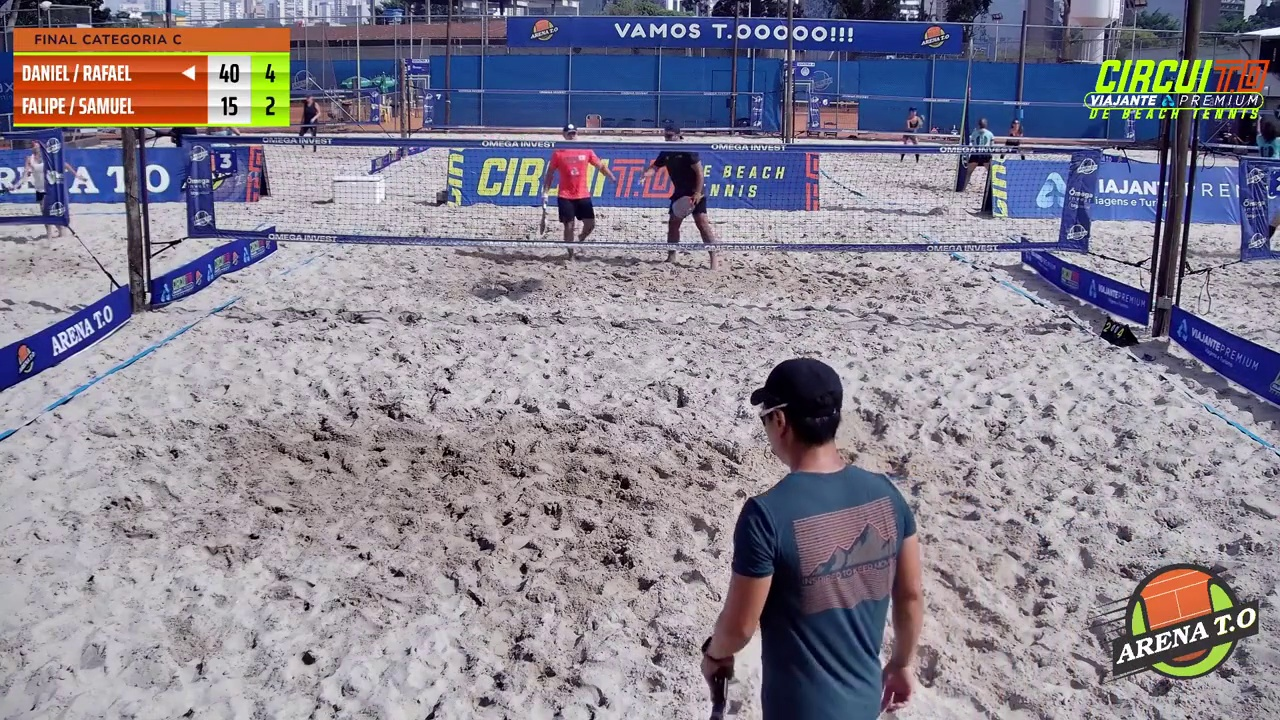court_line: (638, 0, 809, 384)
